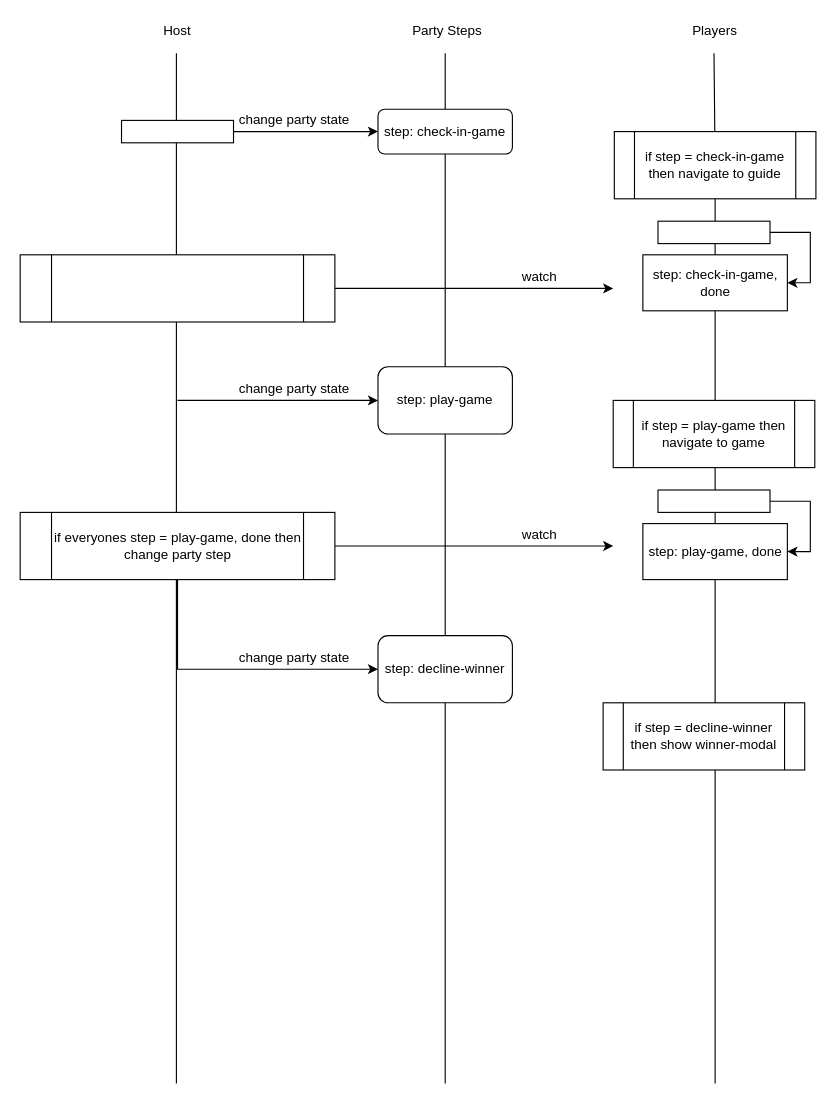
This 839x1104 diagram has some shape labels left out. Here are the shapes that lost their labels. From the top down, the box of each, then its label:
(120, 119, 234, 143): create new game
(657, 220, 770, 244): check-in guide
(19, 254, 335, 322): if everyones step = check-in-game, done then change party state
(657, 489, 770, 512): game-over
